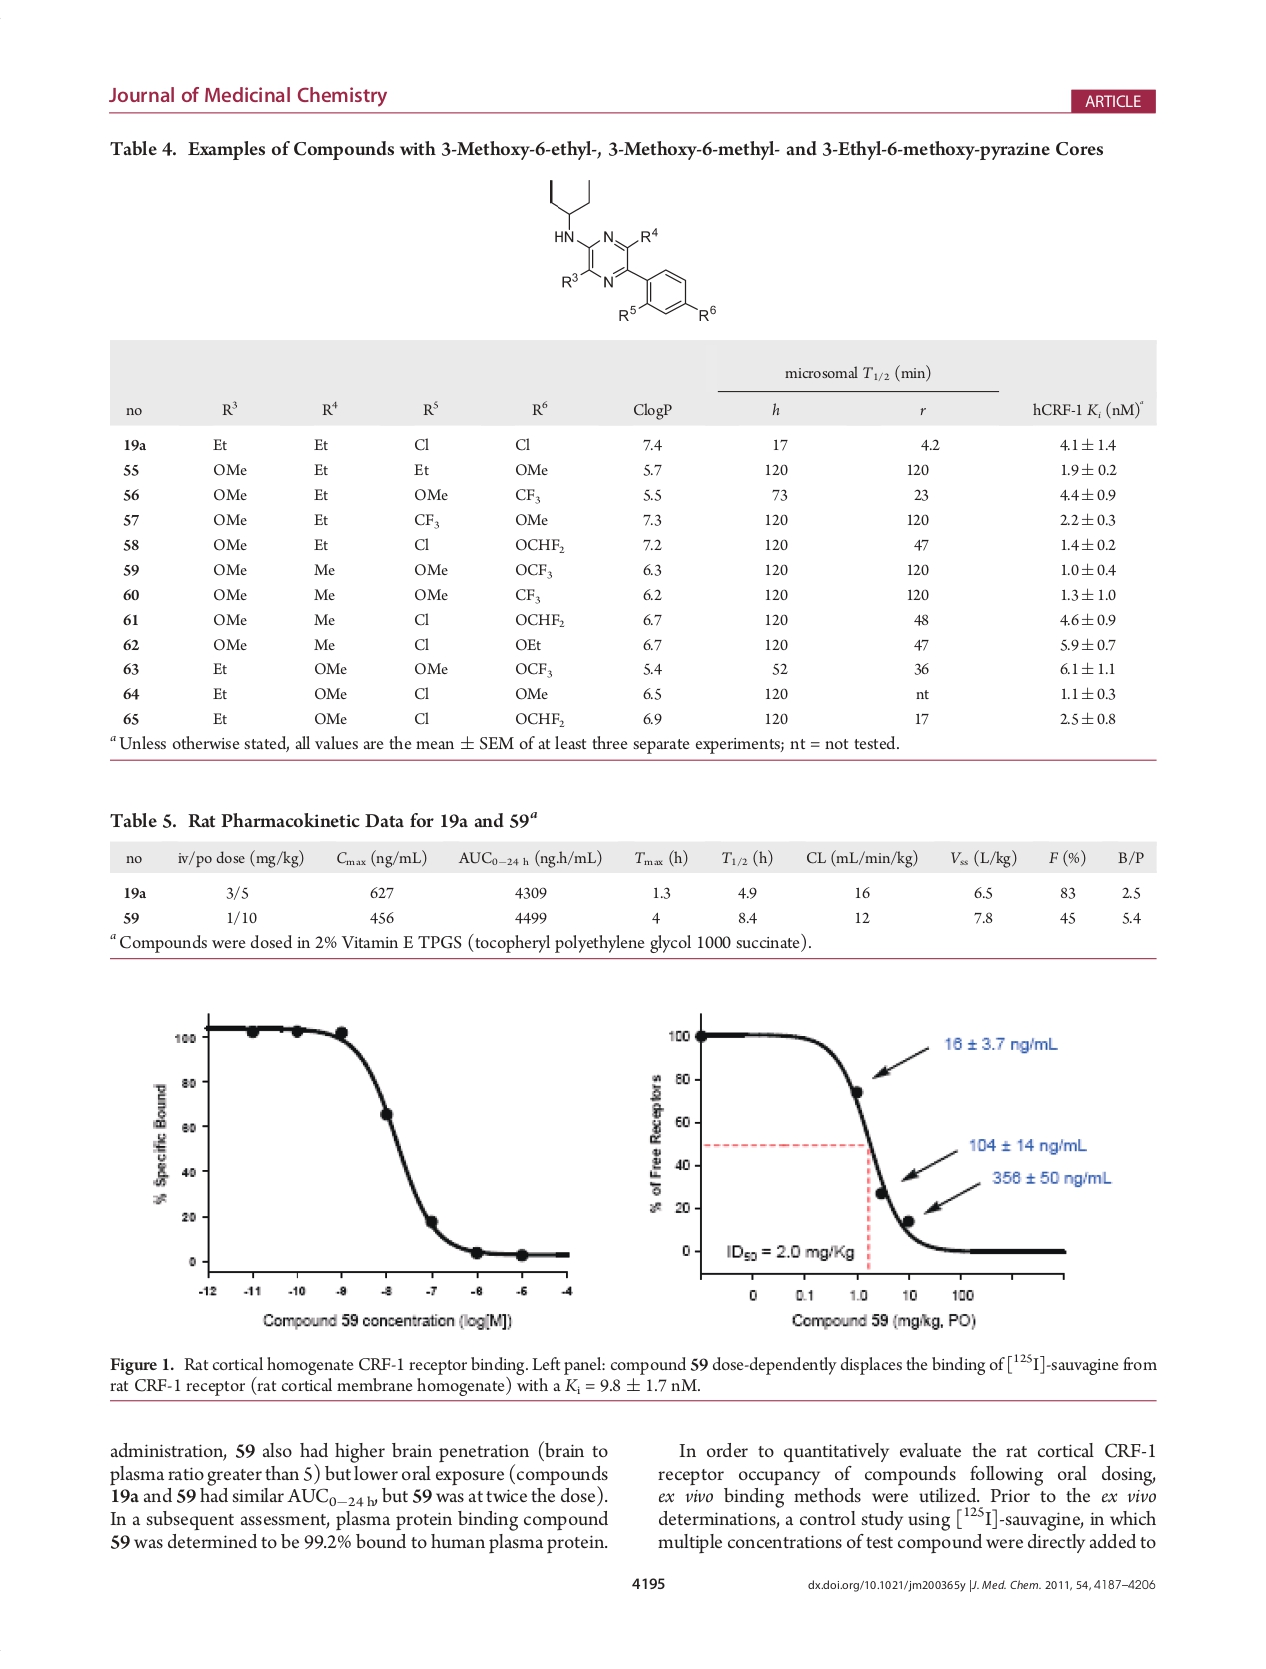exist_molecular: (543, 177, 719, 323)
